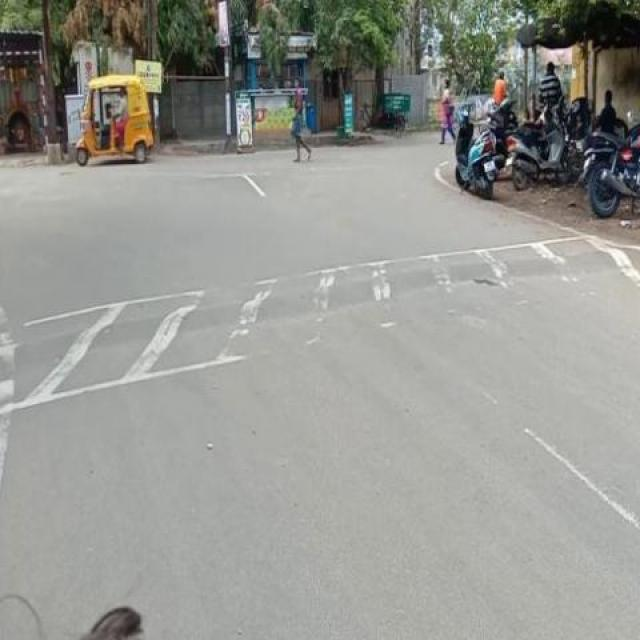Pothole: (469, 274, 507, 288)
Speed Bump: (0, 248, 639, 390)
